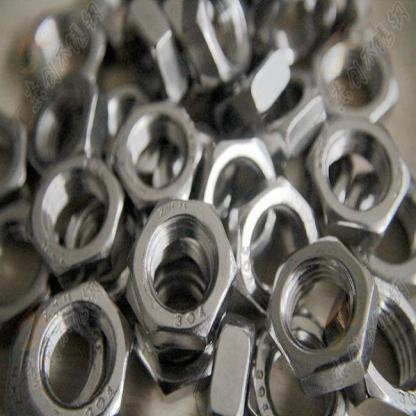FOD: (262, 238, 388, 402), (132, 198, 237, 344), (29, 158, 127, 282)
